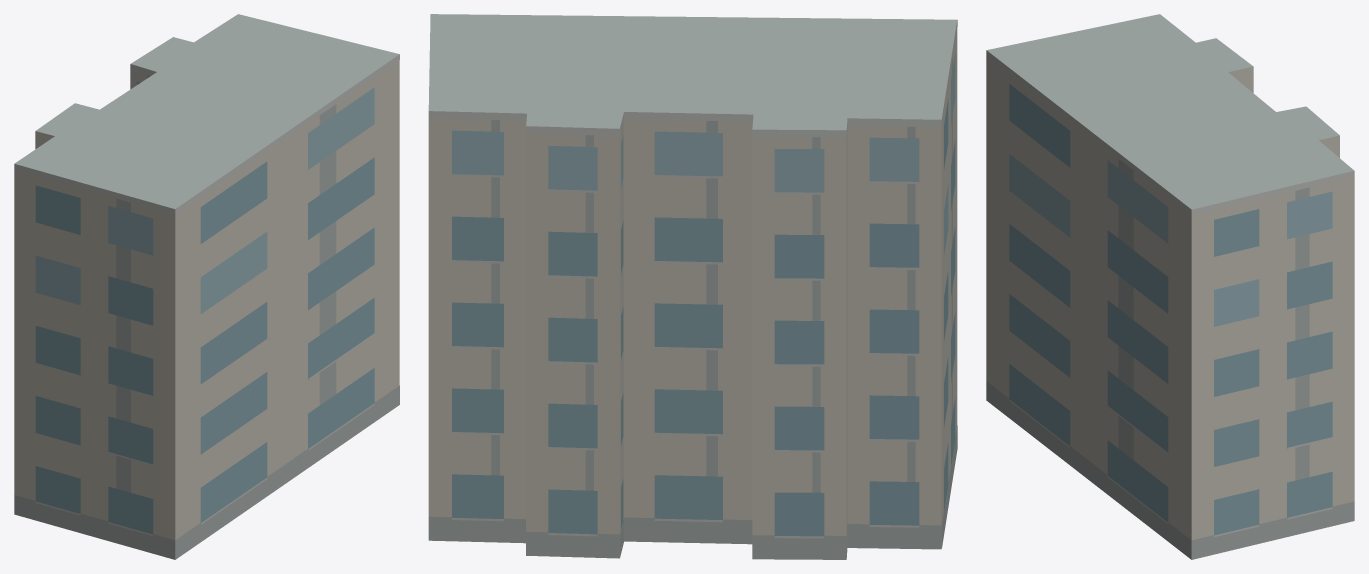
File: survey-upis-32886202.glb
3 views of the same model, side by side, from view 1: azimuth 30°, elevation 25°; view 2: azimuth 150°, elevation 25°; view 3: azimuth 270°, elevation 25° (orthographic). The views are drawn at different scales.
Parts seen in each view (by area): view 1: survey-upis-32886202.tmp; view 2: survey-upis-32886202.tmp; view 3: survey-upis-32886202.tmp.
Boxes of the visible parts, left/top/right/bottom form: survey-upis-32886202.tmp: left=14, top=14, right=399, bottom=559; survey-upis-32886202.tmp: left=428, top=14, right=957, bottom=559; survey-upis-32886202.tmp: left=986, top=14, right=1354, bottom=559.
Size of the model in its own units: 17.26 by 14.4 by 13.72.
